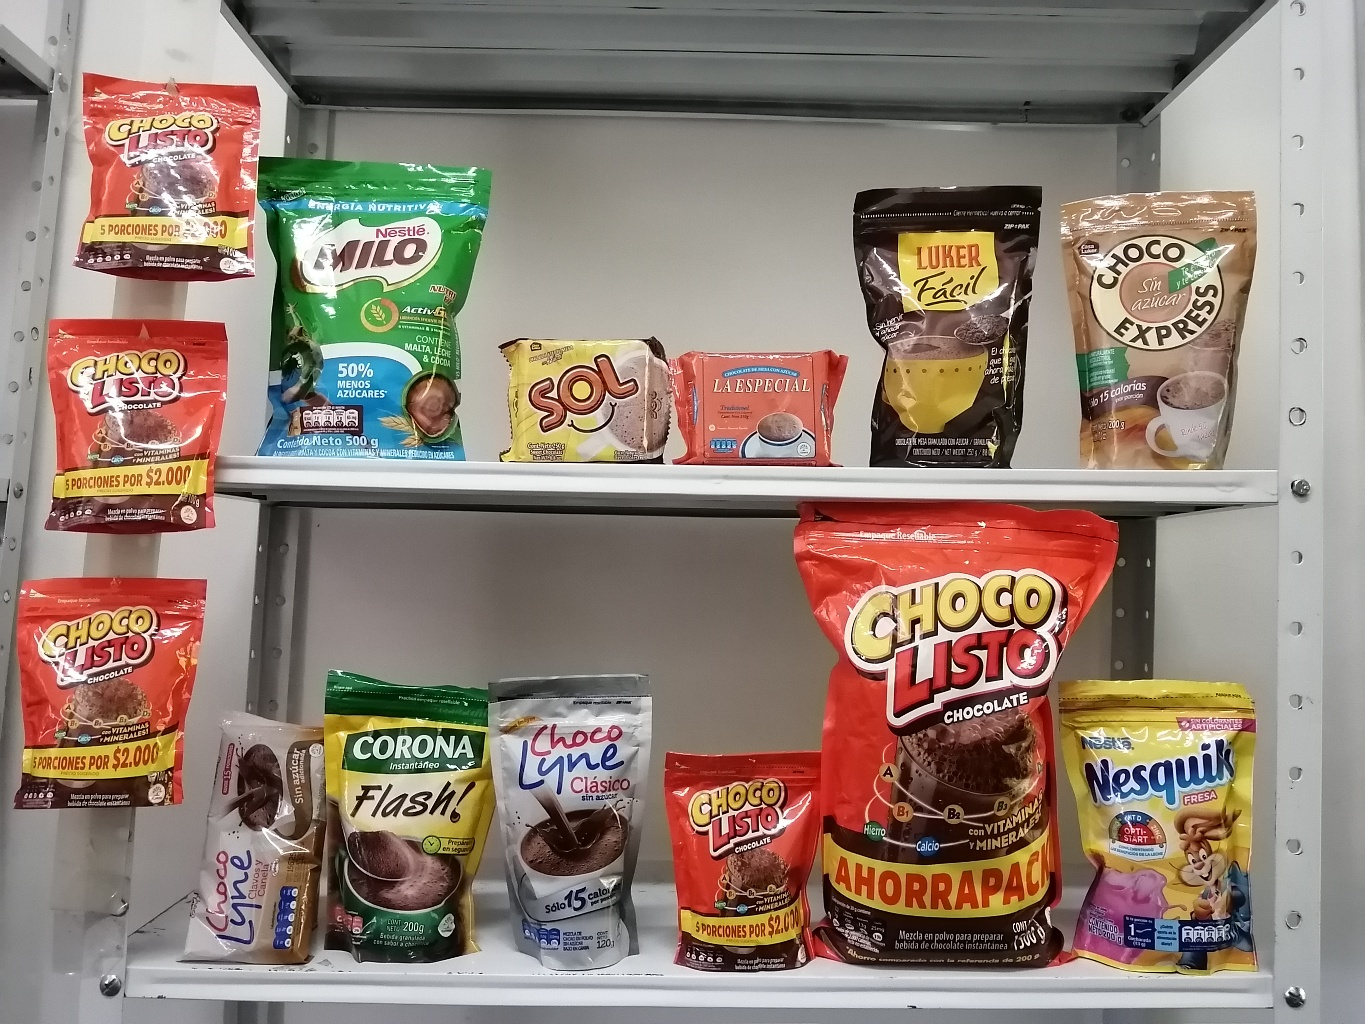COL0170103DYP1,500: (774, 501, 1119, 971)
COL0170205DYP50000: (243, 143, 501, 456)
COL0170305DYP20000: (1067, 672, 1269, 975)
